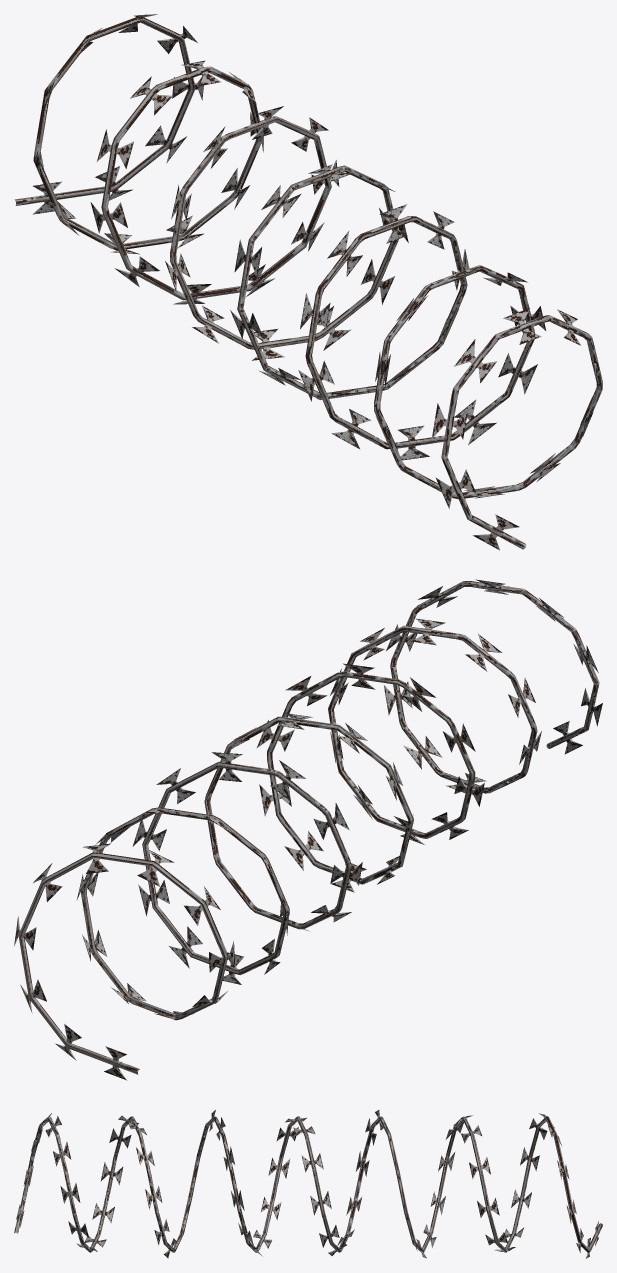
File: Road_RazorWire_01.glb
3 views of the same model, one above another, from view 1: azimuth 30°, elevation 25°; view 2: azimuth 150°, elevation 25°; view 3: azimuth 270°, elevation 25° (orthographic). The views are drawn at different scales.
Parts seen in each view (by area): view 1: RazorWire_01; view 2: RazorWire_01; view 3: RazorWire_01.
Part boxes in pixels (left/top/right/bottom): RazorWire_01: left=14, top=14, right=602, bottom=550; RazorWire_01: left=14, top=579, right=602, bottom=1080; RazorWire_01: left=14, top=1110, right=602, bottom=1258.
Bounding box in the file's own units: 0.7794 × 0.7579 × 3.04.
Materials: 1 (1 with a texture image).
